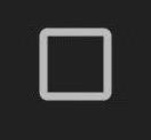CheckBox: (1, 1, 150, 139)
